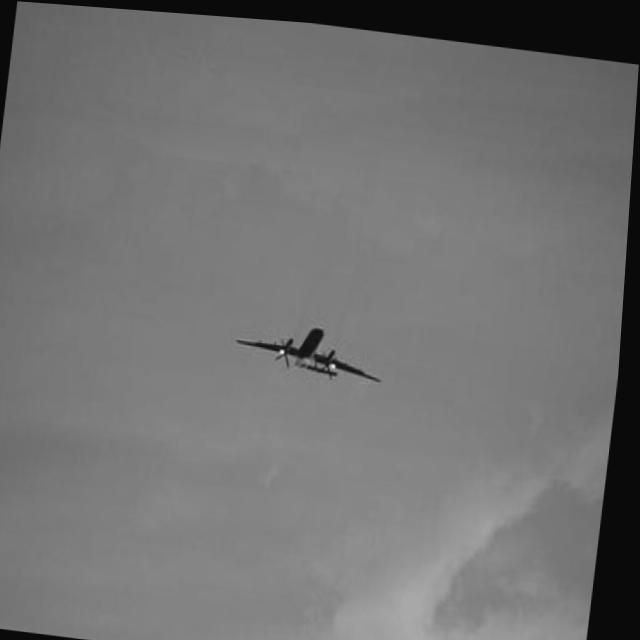aeroplane: (235, 306, 392, 383)
